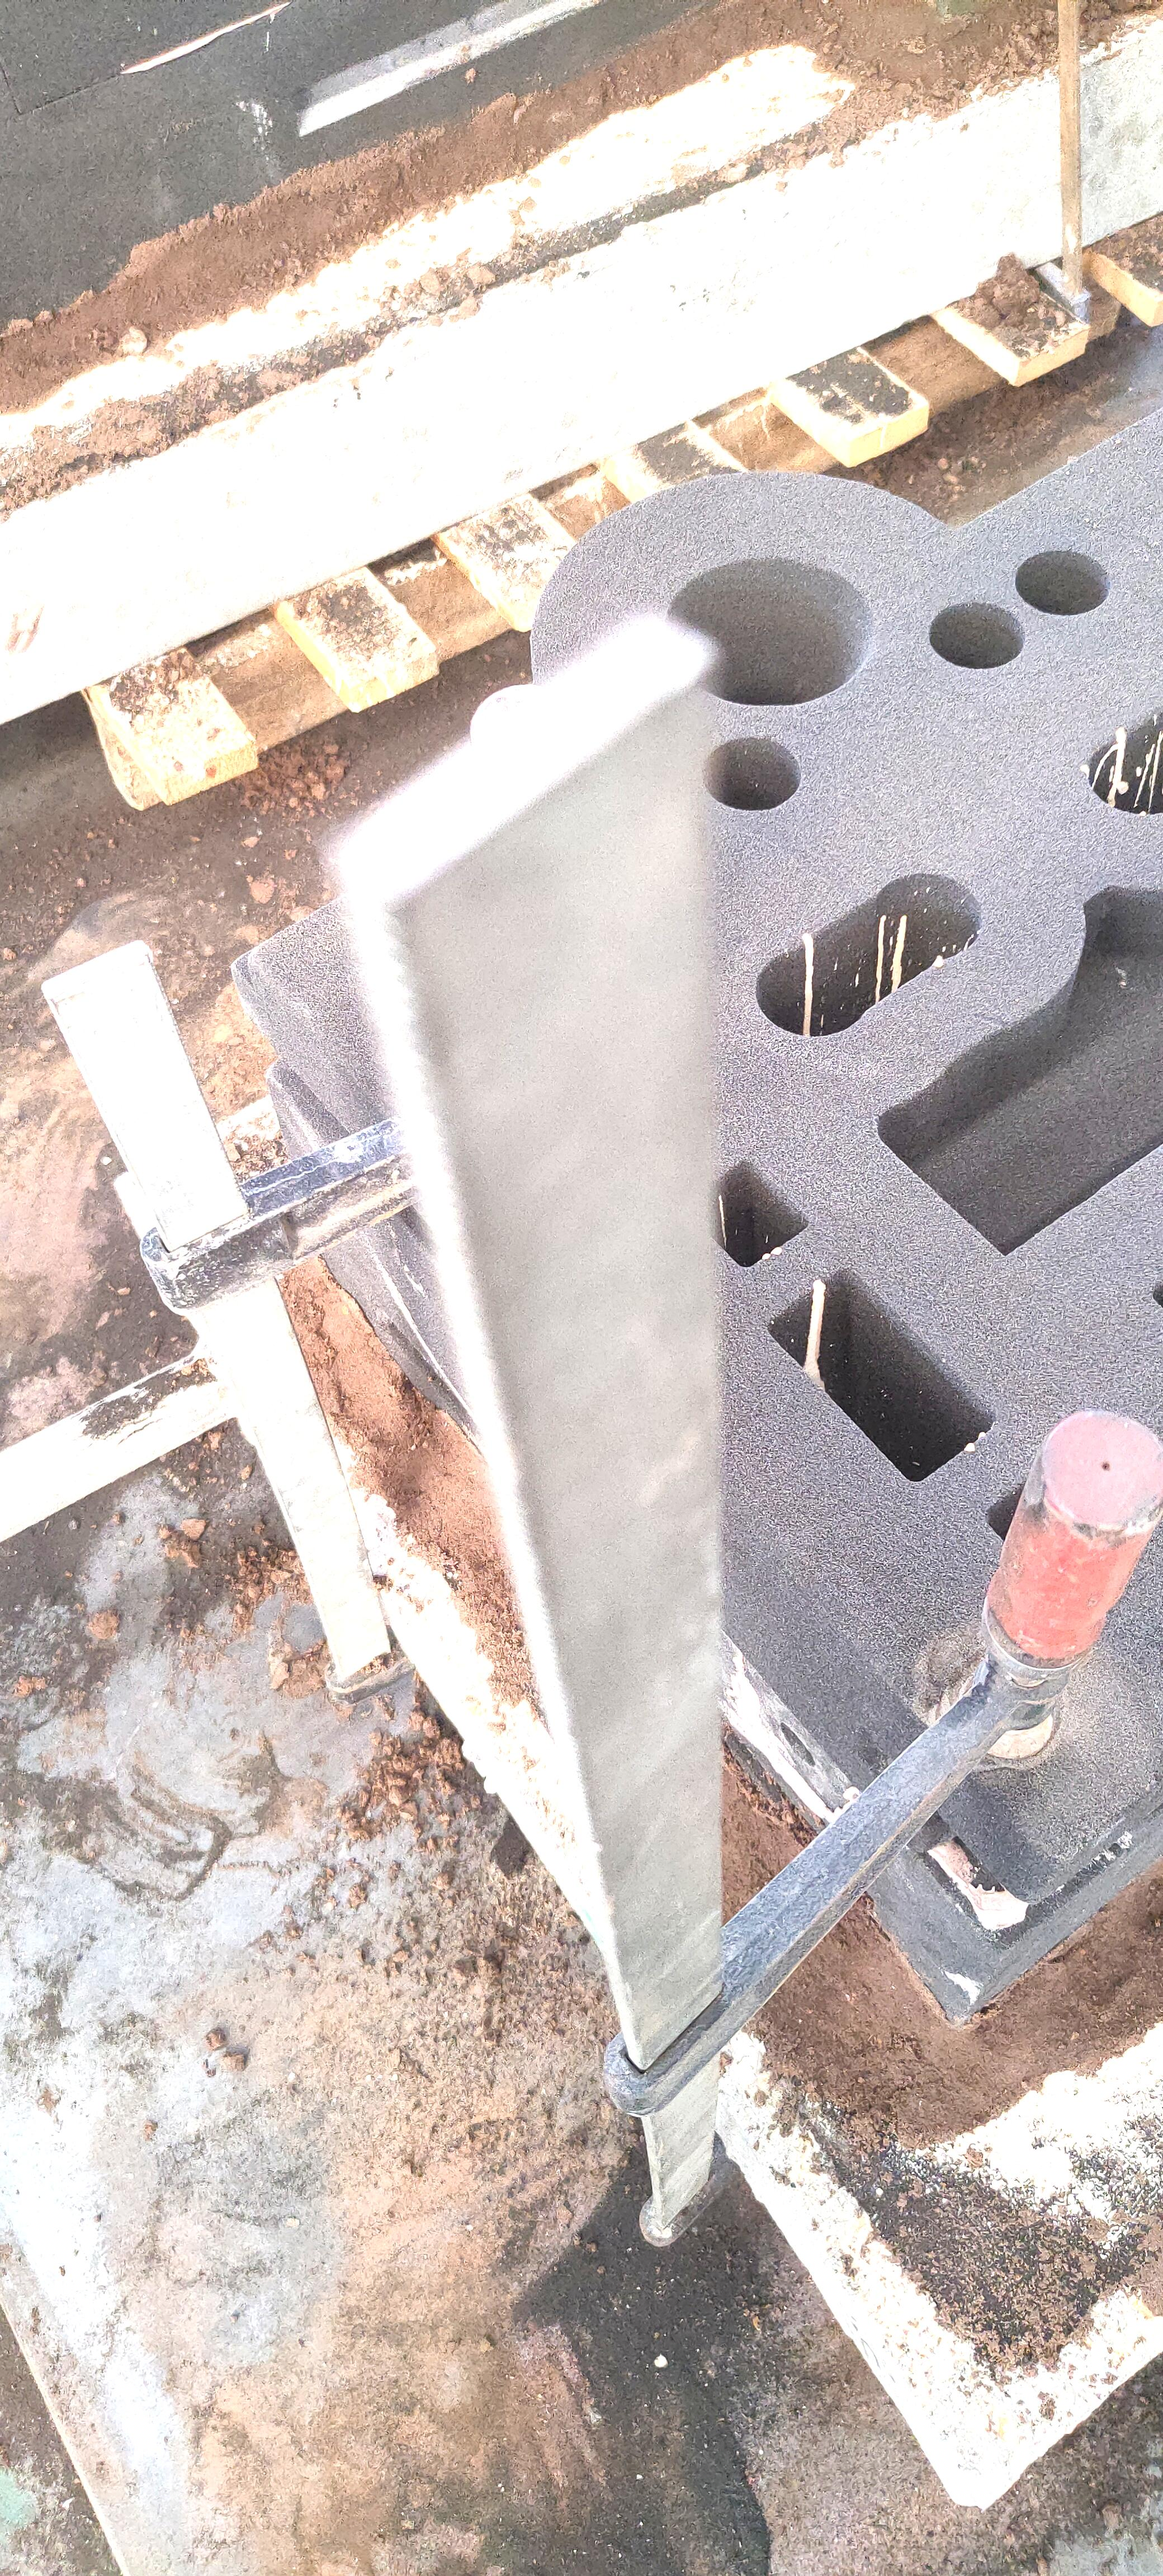pouring hole: (669, 557, 874, 708)
